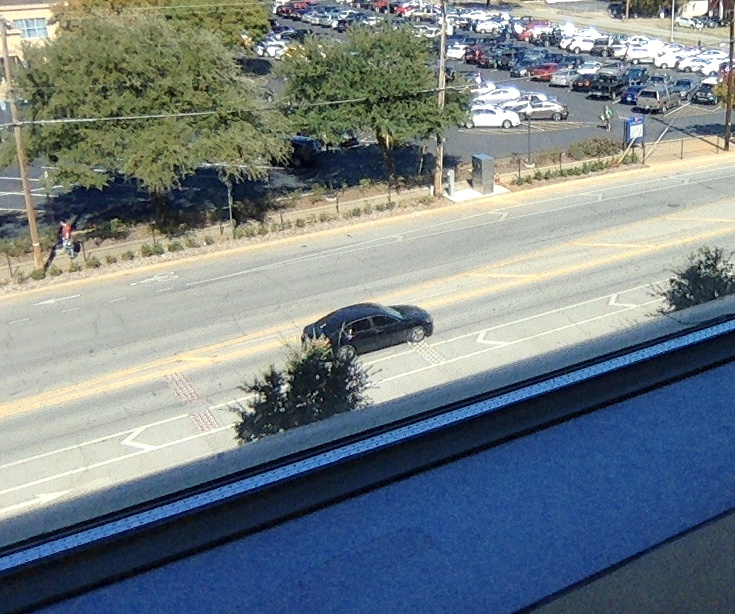car: (300, 300, 435, 366)
